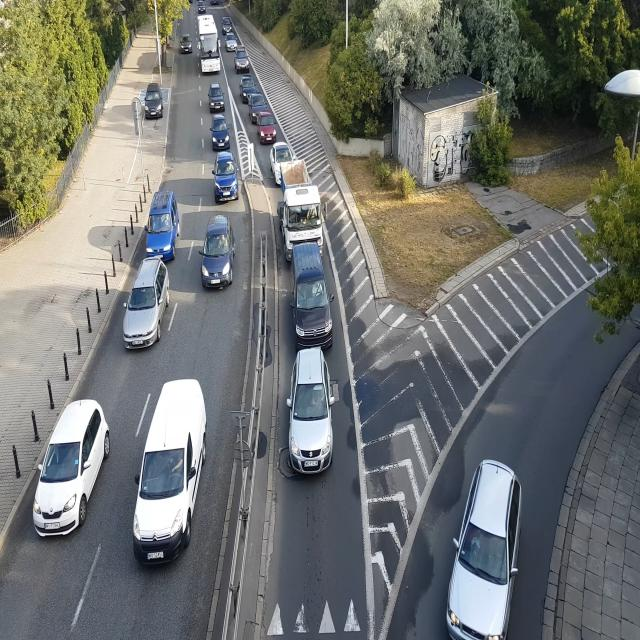bus: (196, 15, 221, 76)
car: (128, 376, 212, 574), (449, 462, 533, 640), (26, 400, 113, 537), (287, 348, 337, 478), (118, 260, 172, 348), (290, 244, 334, 338), (200, 216, 236, 289), (143, 187, 177, 259), (214, 152, 238, 202), (271, 136, 295, 174), (143, 85, 165, 120), (258, 111, 276, 147), (211, 118, 230, 150), (248, 93, 268, 123), (240, 76, 258, 102), (208, 84, 224, 113), (236, 47, 249, 73), (225, 33, 238, 52), (220, 15, 233, 34), (181, 33, 192, 54), (198, 2, 206, 13), (211, 0, 219, 7)
truck: (277, 162, 325, 255)
